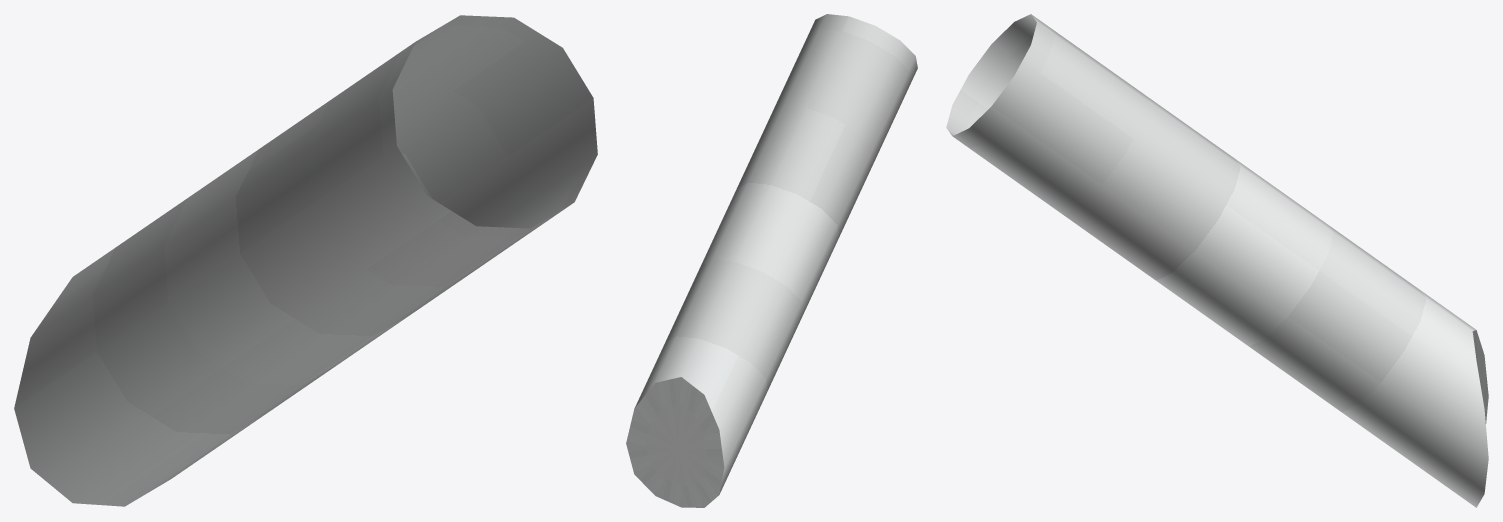
Rendered from luminairearm_truss10ftdouble_c9_pedestal.obj.
3 views of the same model, side by side, from view 1: azimuth 30°, elevation 25°; view 2: azimuth 150°, elevation 25°; view 3: azimuth 270°, elevation 25° (orthographic). The views are drawn at different scales.
Visible parts, largest first — view 1: luminairearm_truss10ftdouble_c9_pedestal; view 2: luminairearm_truss10ftdouble_c9_pedestal; view 3: luminairearm_truss10ftdouble_c9_pedestal.
Boxes of the visible parts, bbox=[...] form: luminairearm_truss10ftdouble_c9_pedestal: bbox=[14, 15, 597, 506]; luminairearm_truss10ftdouble_c9_pedestal: bbox=[626, 14, 917, 507]; luminairearm_truss10ftdouble_c9_pedestal: bbox=[946, 14, 1488, 507].
Size of the model in its own units: 0.1562 by 0.5595 by 0.575.
